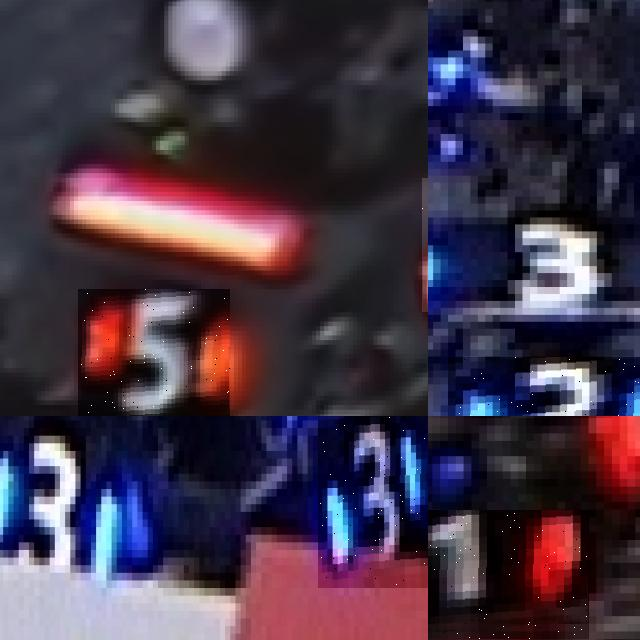B3: (0, 420, 127, 587), (318, 416, 428, 588), (447, 356, 640, 416)
R1: (428, 509, 588, 639)
R5: (78, 289, 230, 416)
